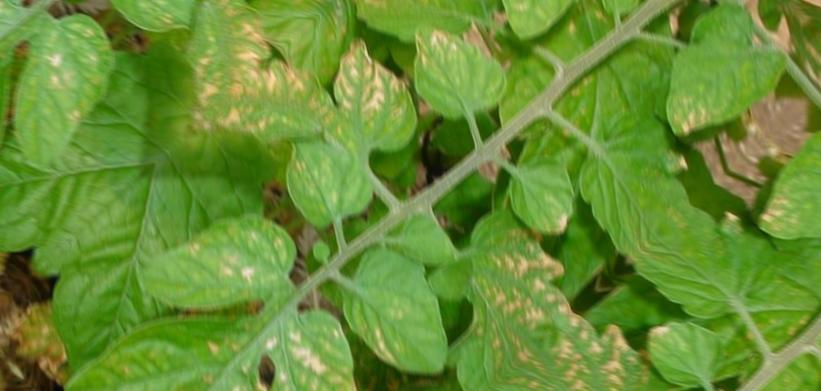Tomato leaf bacterial spot: (146, 0, 475, 306), (327, 171, 591, 391), (36, 241, 373, 391), (578, 0, 821, 202), (523, 70, 738, 281), (136, 180, 318, 360), (303, 223, 486, 391), (204, 276, 438, 391), (387, 0, 544, 160), (481, 128, 609, 257), (428, 0, 632, 66)
